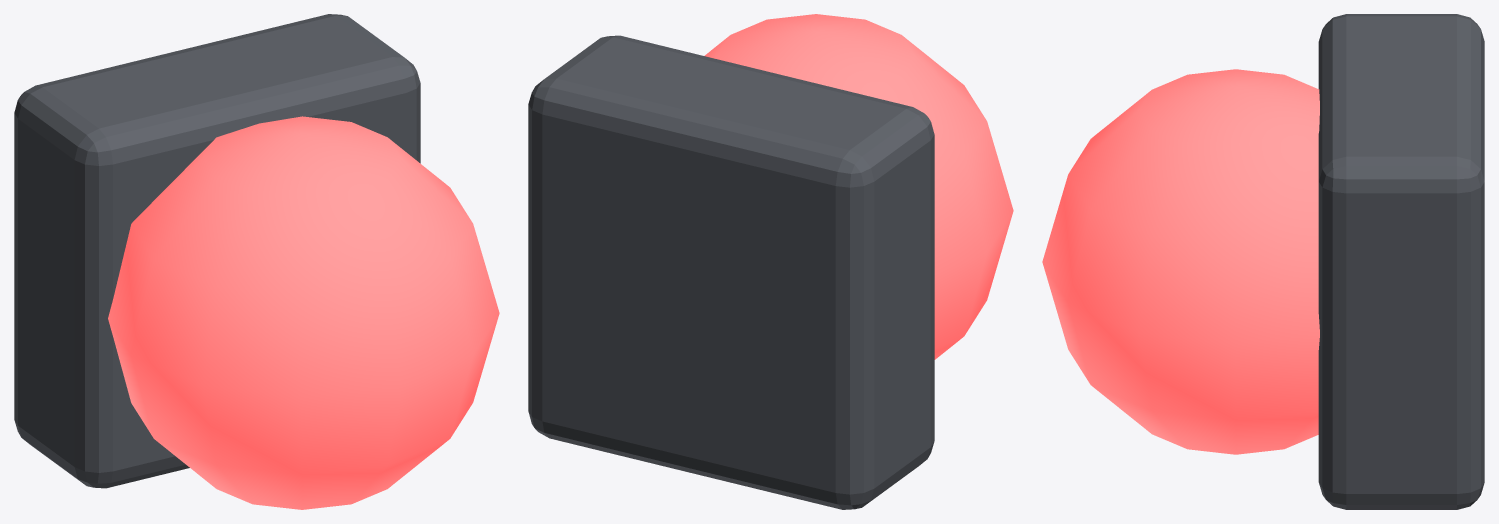
The model's file is beacon_warning_red.glb.
The picture shows the model from 3 angles, left to right: view 1: azimuth 30°, elevation 25°; view 2: azimuth 150°, elevation 25°; view 3: azimuth 270°, elevation 25°; orthographic projection. The views are drawn at different scales.
Visible parts, largest first — view 1: GD_beacon_warning_red__m1, GD_beacon_warning_red__m0; view 2: GD_beacon_warning_red__m0, GD_beacon_warning_red__m1; view 3: GD_beacon_warning_red__m1, GD_beacon_warning_red__m0.
Boxes of the visible parts, x1=… form: GD_beacon_warning_red__m1: x1=108, y1=116, x2=499, y2=509; GD_beacon_warning_red__m0: x1=14, y1=14, x2=420, y2=488; GD_beacon_warning_red__m0: x1=528, y1=35, x2=934, y2=509; GD_beacon_warning_red__m1: x1=704, y1=14, x2=1013, y2=359; GD_beacon_warning_red__m1: x1=1042, y1=69, x2=1319, y2=454; GD_beacon_warning_red__m0: x1=1318, y1=14, x2=1484, y2=509.
Size of the model in its own units: 0.14 by 0.14 by 0.16.
